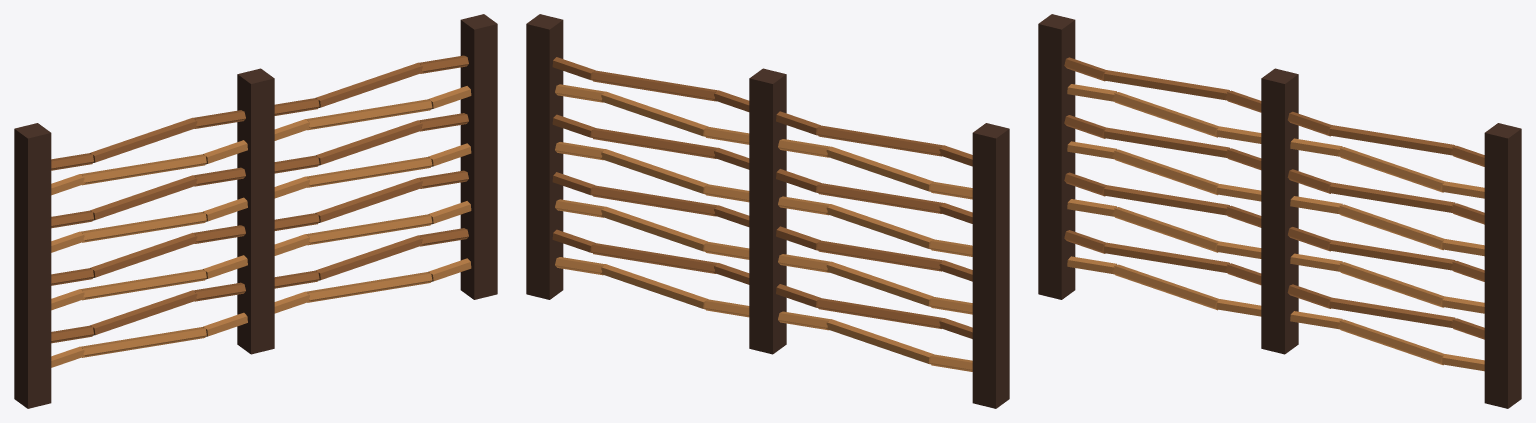
Rendered from 335_wattle_fence_straight.fbx.
3 renders of one model, left to right at view 1: azimuth 30°, elevation 25°; view 2: azimuth 150°, elevation 25°; view 3: azimuth 330°, elevation 25°, orthographic.
Parts seen in each view (by area): view 1: 335_wattle_fence_straight; view 2: 335_wattle_fence_straight; view 3: 335_wattle_fence_straight.
Boxes of the visible parts, x1,y1,x2,y2 form: 335_wattle_fence_straight: [14, 14, 497, 408]; 335_wattle_fence_straight: [526, 14, 1009, 408]; 335_wattle_fence_straight: [1038, 14, 1521, 408].
Bounding box in the file's own units: 2 × 1.1 × 0.1189.
Materials: 1 (1 with a texture image).
